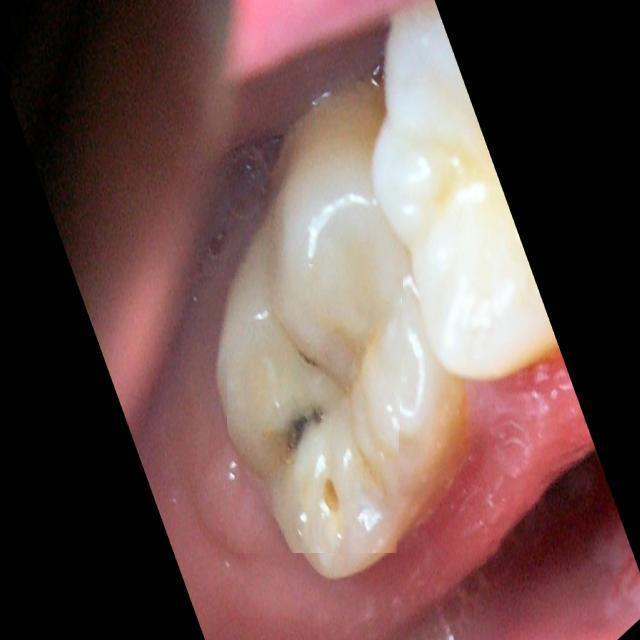Cavity: (227, 255, 403, 553)
